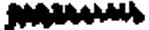Water: (5, 1, 145, 30)
